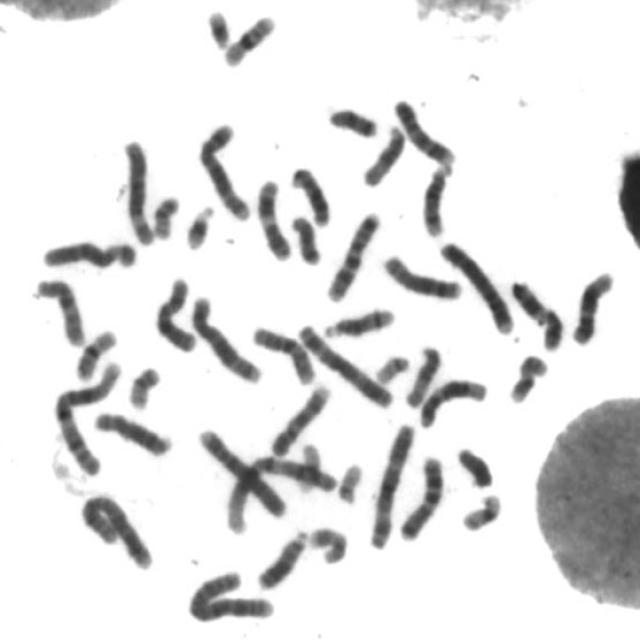A1: (220, 452, 340, 536), (48, 355, 125, 479)
A2: (73, 487, 162, 579), (184, 564, 278, 623)
A3: (292, 318, 396, 410), (364, 417, 418, 551)
B4: (194, 422, 290, 521), (435, 234, 517, 336)
B5: (187, 290, 265, 386), (194, 116, 253, 222)
C10: (248, 320, 318, 386), (30, 272, 89, 349)
C11: (506, 274, 566, 352), (252, 173, 294, 262)
C12: (414, 372, 491, 431), (568, 264, 618, 348)
C6: (118, 134, 158, 246), (37, 234, 141, 272)
C7: (322, 206, 383, 304), (394, 448, 448, 544)
C8: (378, 248, 466, 302), (89, 406, 174, 458)
C9: (389, 92, 459, 168), (266, 379, 333, 458)
D13: (252, 524, 311, 592), (286, 160, 334, 229)
D14: (416, 158, 456, 240), (320, 302, 398, 339)
D15: (358, 120, 408, 189), (400, 339, 445, 410)
E16: (218, 8, 279, 68), (71, 323, 119, 382)
E17: (504, 349, 552, 405), (304, 521, 351, 567)
E18: (323, 101, 381, 140), (286, 209, 324, 267)
F19: (458, 488, 504, 533), (292, 437, 324, 494)
F20: (123, 361, 164, 411), (148, 189, 182, 242)
G21: (180, 198, 218, 252), (201, 4, 234, 52)
G22: (332, 457, 366, 505), (370, 349, 413, 385)
X: (150, 272, 200, 354)
Y: (452, 442, 497, 489)
